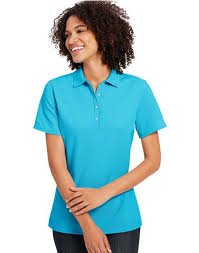C_polo shirt: (23, 66, 169, 231)
